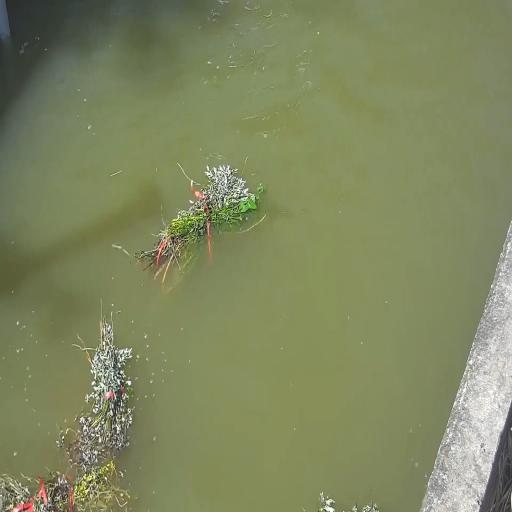twig: (34, 304, 136, 508), (134, 161, 264, 279), (1, 439, 134, 510)
